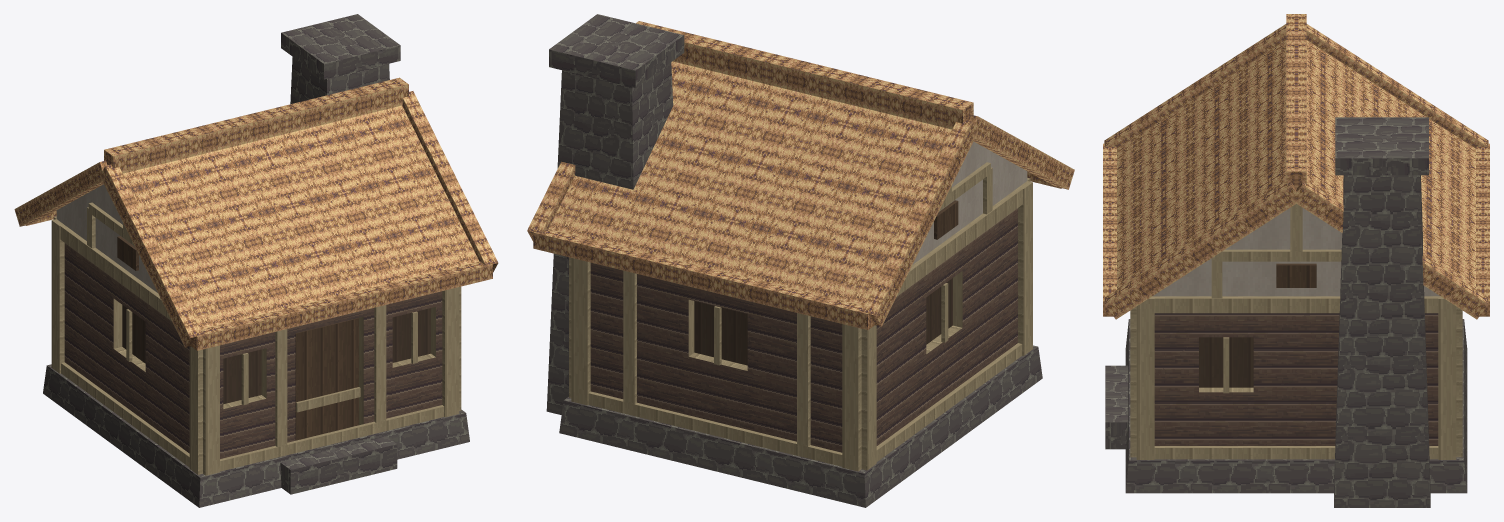
File: farmhouse_stage1.glb
The picture shows the model from 3 angles, left to right: view 1: azimuth 30°, elevation 25°; view 2: azimuth 150°, elevation 25°; view 3: azimuth 270°, elevation 25°; orthographic projection. The views are drawn at different scales.
Parts seen in each view (by area): view 1: farmhouse_stage1; view 2: farmhouse_stage1; view 3: farmhouse_stage1.
Part boxes in pixels (left/top/right/bottom): farmhouse_stage1: left=14, top=14, right=498, bottom=507; farmhouse_stage1: left=527, top=14, right=1074, bottom=507; farmhouse_stage1: left=1103, top=14, right=1489, bottom=507.
Size of the model in its own units: 5.13 by 4.94 by 4.96.
7 materials, 7 textured.
